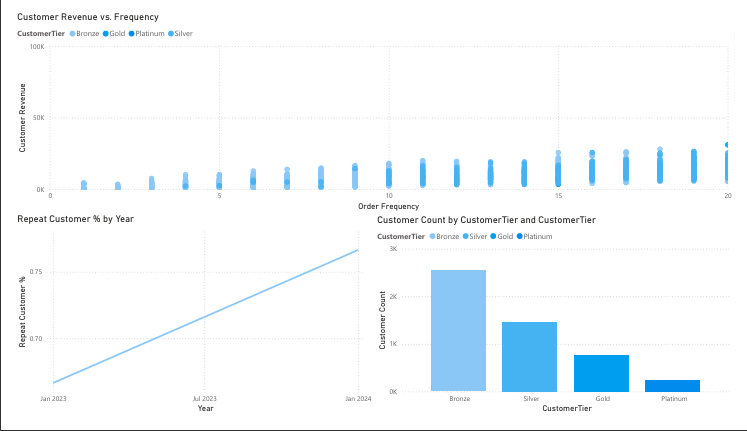

The page's visual inventory and layout, read from the dashboard file:
{"tool":"powerbi","page":{"name":"Customer Analytics","canvas":[1280,720],"ordinal":2},"visuals":[{"type":"columnChart","fields":{"Category":["customers.CustomerTier"],"Y":["_Measures.Customer Count"],"Series":["customers.CustomerTier"]},"box":[640,360.5,640,358.9],"z":0},{"type":"scatterChart","title":"Customer Revenue vs. Frequency","fields":{"X":["_Measures.Order Frequency"],"Y":["_Measures.Customer Revenue"],"Series":["customers.CustomerTier"],"Category":["customers.CustomerID"]},"box":[0,0,1280,358.9],"z":1000},{"type":"lineChart","fields":{"Category":["calendar.Date.Variation.Date Hierarchy.Year","calendar.Date.Variation.Date Hierarchy.Quarter","calendar.Date.Variation.Date Hierarchy.Month","calendar.Date.Variation.Date Hierarchy.Day"],"Y":["_Measures.Repeat Customer %"]},"box":[0,358.9,640,360.5],"z":2000}]}

Visuals, with their boxes in screenshot pixels (x1, y1, x2, y2), scaled from the page's 1280x720 canvas onto the 747x431 screenshot:
columnChart - customers.CustomerTier x _Measures.Customer Count: Rect(374, 216, 746, 430)
"Customer Revenue vs. Frequency" scatterChart: Rect(0, 0, 746, 215)
lineChart - calendar.Date.Variation.Date Hierarchy.Year x calendar.Date.Variation.Date Hierarchy.Quarter: Rect(0, 215, 374, 430)
